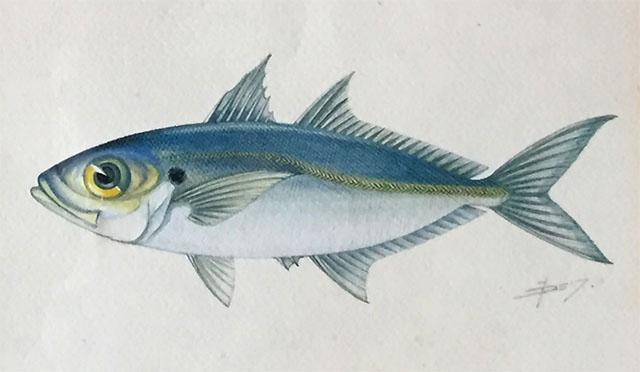Mulut: (23, 160, 72, 224)
Sirip Anal: (312, 199, 488, 303)
Sirip Dada: (174, 161, 304, 232)
Sirip Ekor: (486, 94, 620, 276)
Sirip Perut: (181, 243, 251, 313)
Sirip Punggung: (204, 45, 488, 175)
